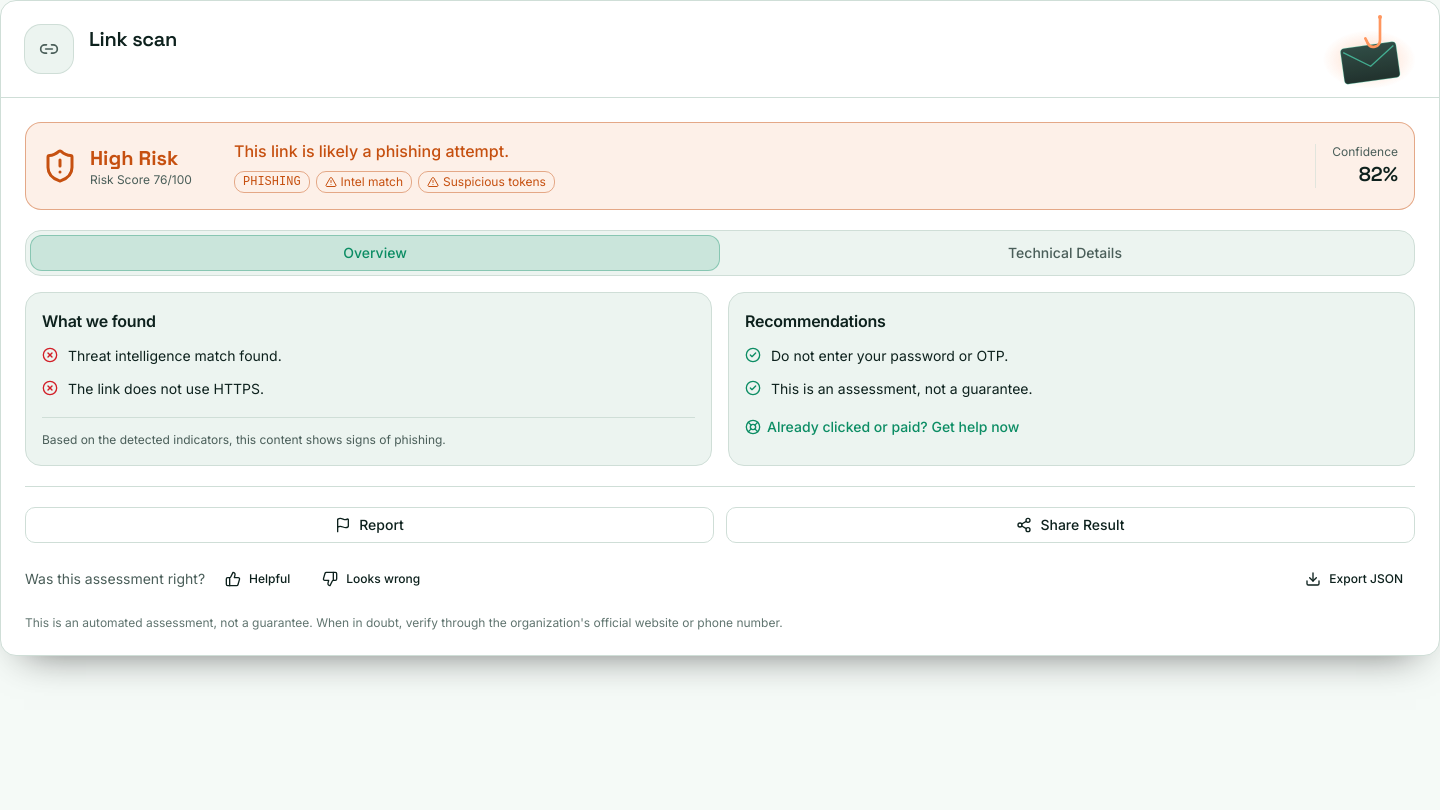
Test: ScanResult › lists evidence and keeps technical details on their own tab
Expected: the text "The link does not use HTTPS." is shown, [68,378,264,401]
Expected: the text "Scan ID:" is not shown
Click the tab "Technical Details" at (1065, 253), box [720,235,1410,271]
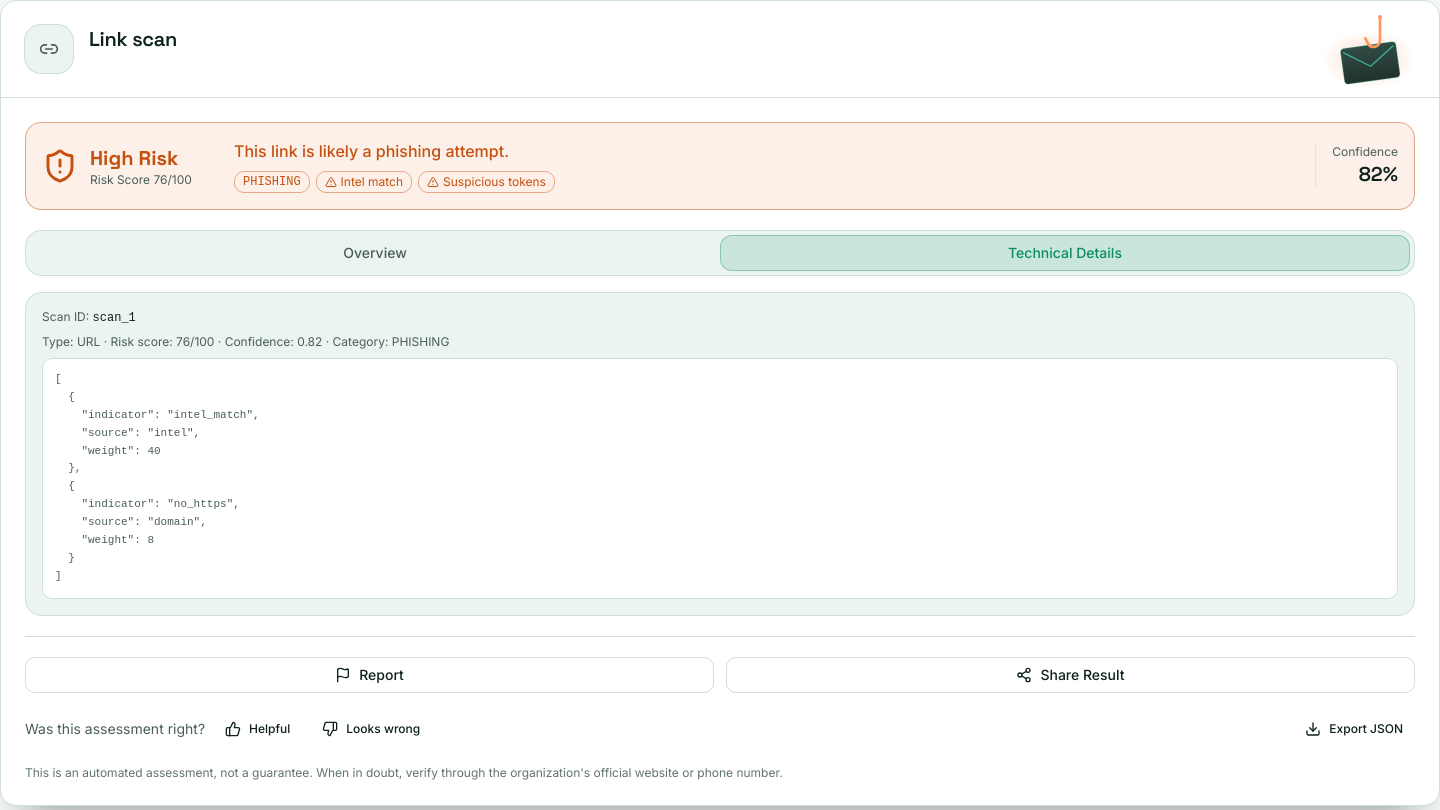
Now the text "Scan ID: scan_1" is shown, box [42,309,136,325]
